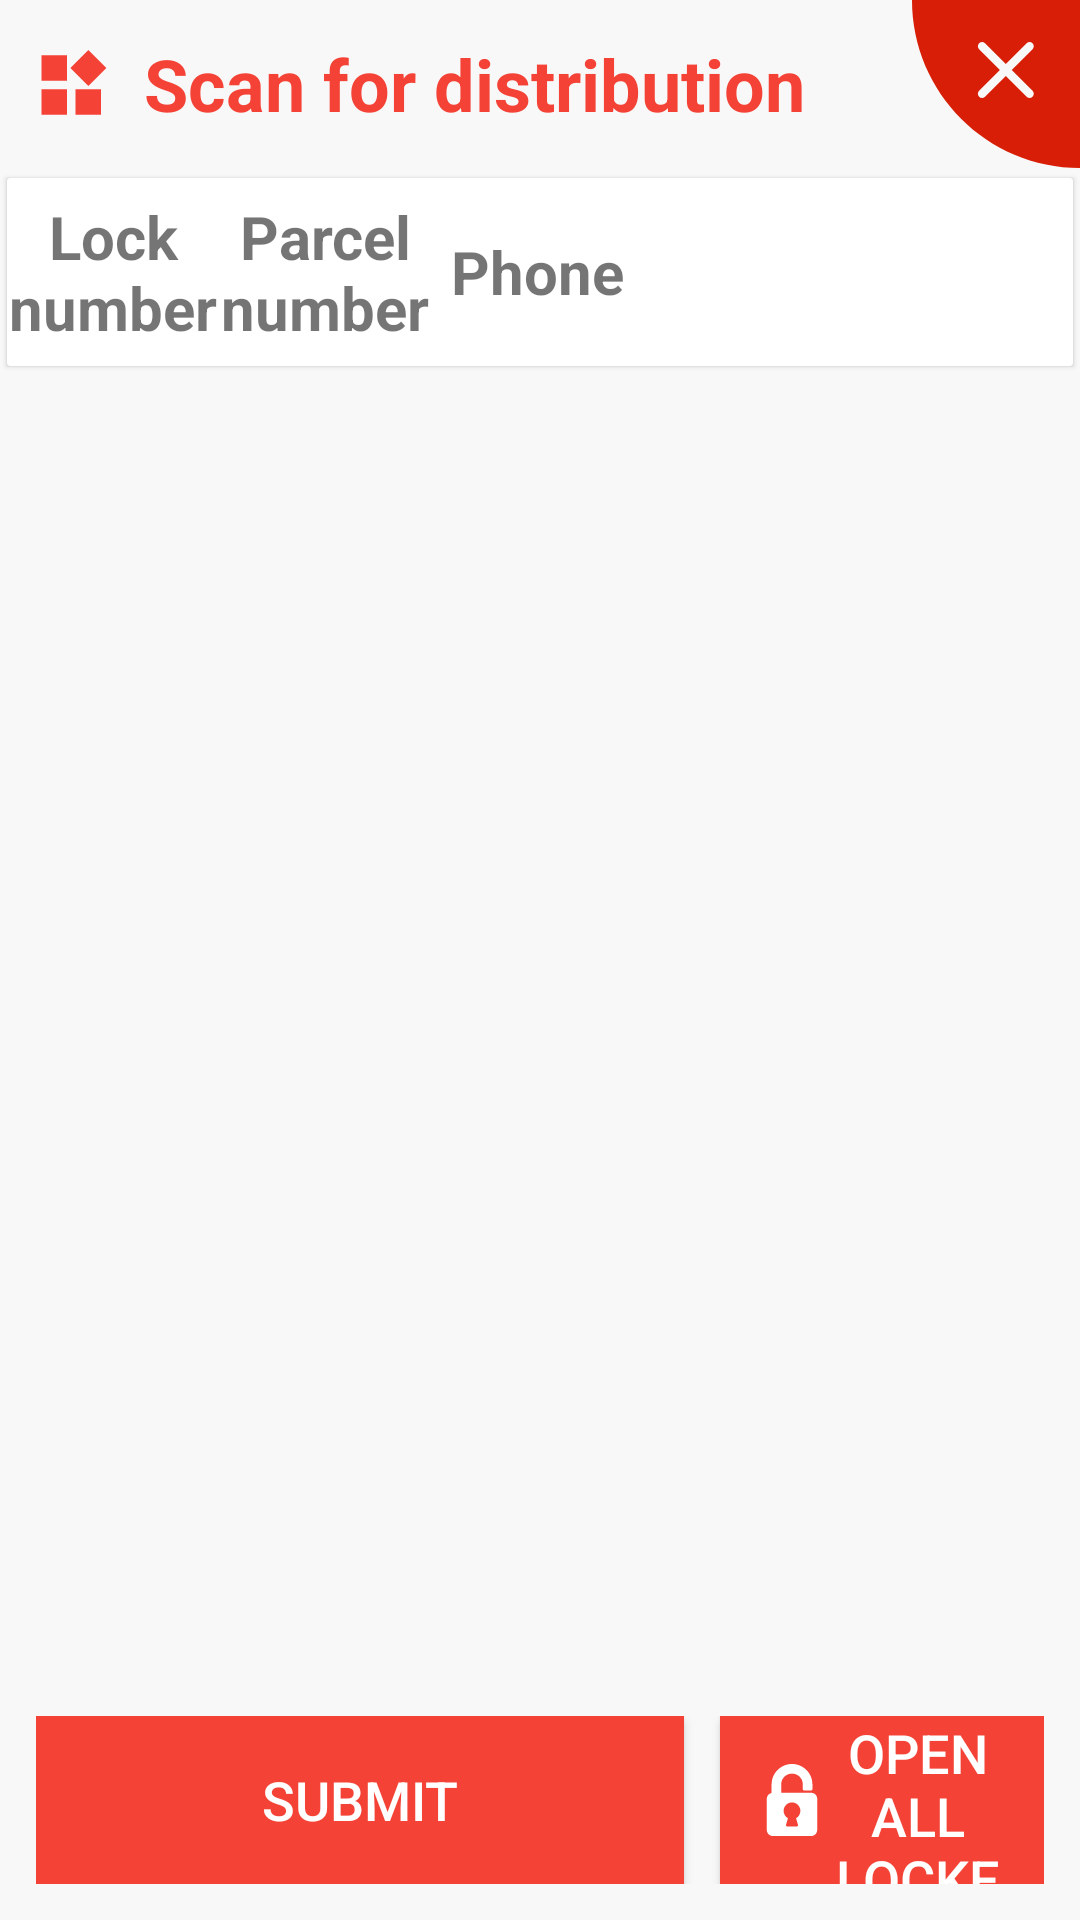

Named icons in this screenshot (1080*1920) and their centers, (x,y):
close: (996,84)
